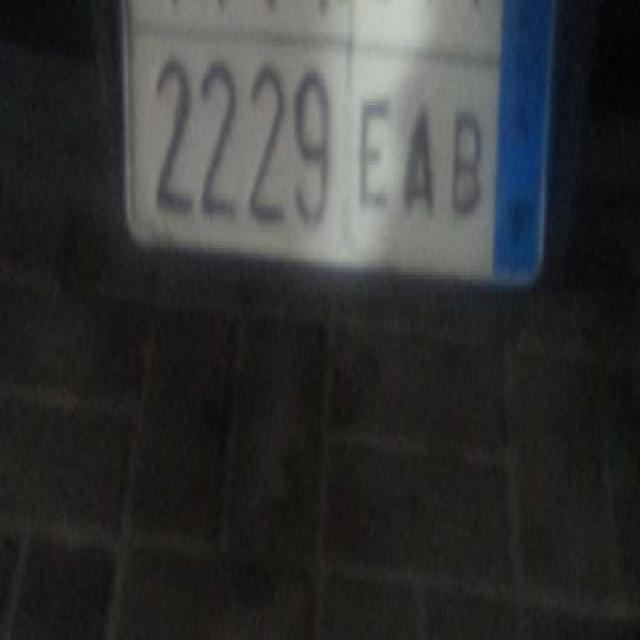license_plate: (132, 20, 496, 267)
